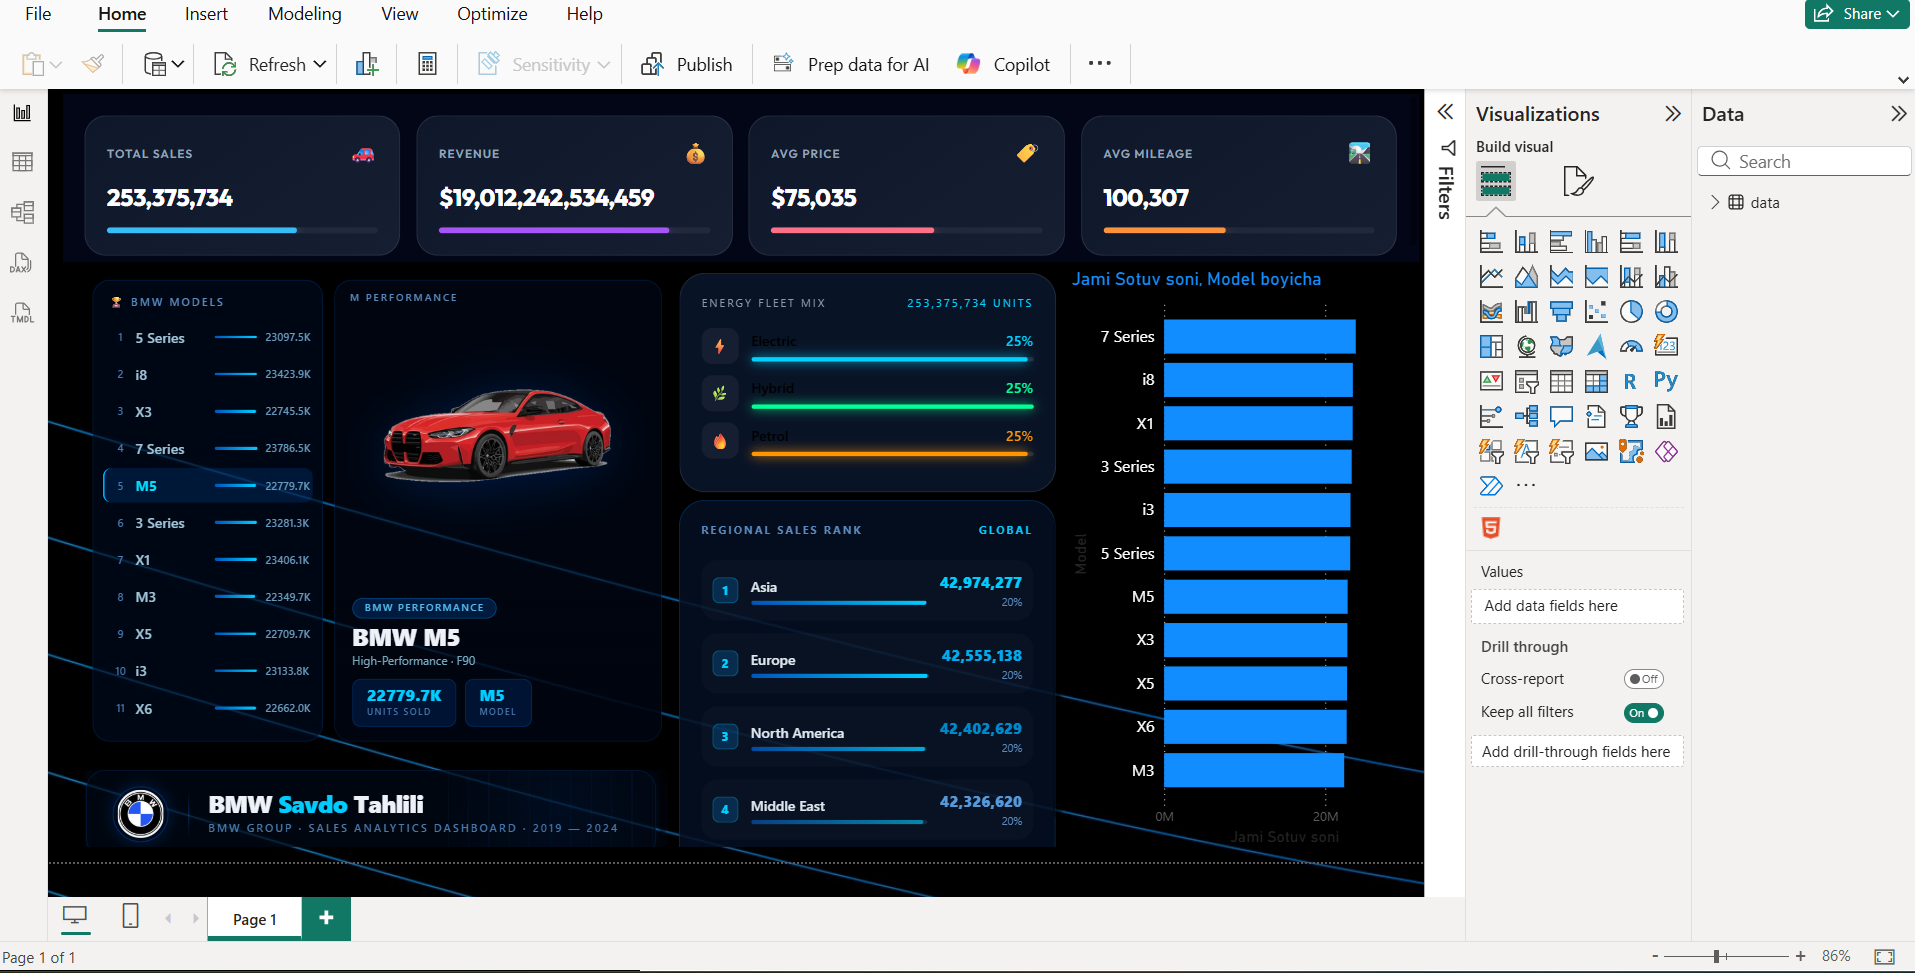

Layout of this report page (visuals, bound fields, positions):
{"tool":"powerbi","page":{"name":"Page 1","canvas":[1280,720],"ordinal":0},"visuals":[{"type":"htmlContent443BE3AD55E043BF878BED274D3A6855","fields":{"content":["data.KPI_HTML"]},"box":[9.8,0,1270.5,166.3],"z":0},{"type":"htmlContent443BE3AD55E043BF878BED274D3A6855","fields":{"content":["data.HTML_BMW_Models"]},"box":[30.6,166.3,551.5,462.2],"z":1000},{"type":"htmlContent443BE3AD55E043BF878BED274D3A6855","fields":{"content":["data.HTML_Fuel_Final"]},"box":[582.1,166.3,365.6,248.2],"z":2000},{"type":"htmlContent443BE3AD55E043BF878BED274D3A6855","fields":{"content":["data.HTML_Region_Elite"]},"box":[582.1,377.9,365.6,331.4],"z":3000},{"type":"clusteredBarChart","title":"Jami Sotuv soni, Model boyicha","fields":{"Y":["data.Jami Sotuv soni"],"Category":["data.Model"]},"box":[947.7,166.3,332.6,542.9],"z":4000},{"type":"htmlContent443BE3AD55E043BF878BED274D3A6855","fields":{"content":["data.HTML_BMW_Header"]},"box":[30.6,628.5,551.5,80.7],"z":5000}]}

Visuals, with their boxes on the page's 1280x720 design canvas (x1, y1, x2, y2). These are canvas units, not pixel positions in the 1915x973 screenshot, which may show the page scaled, cropped or inside an application window:
htmlContent443BE3AD55E043BF878BED274D3A6855 - data.KPI_HTML: [left=10, top=0, right=1280, bottom=166]
htmlContent443BE3AD55E043BF878BED274D3A6855 - data.HTML_BMW_Models: [left=31, top=166, right=582, bottom=628]
htmlContent443BE3AD55E043BF878BED274D3A6855 - data.HTML_Fuel_Final: [left=582, top=166, right=948, bottom=414]
htmlContent443BE3AD55E043BF878BED274D3A6855 - data.HTML_Region_Elite: [left=582, top=378, right=948, bottom=709]
"Jami Sotuv soni, Model boyicha" clusteredBarChart: [left=948, top=166, right=1280, bottom=709]
htmlContent443BE3AD55E043BF878BED274D3A6855 - data.HTML_BMW_Header: [left=31, top=628, right=582, bottom=709]
